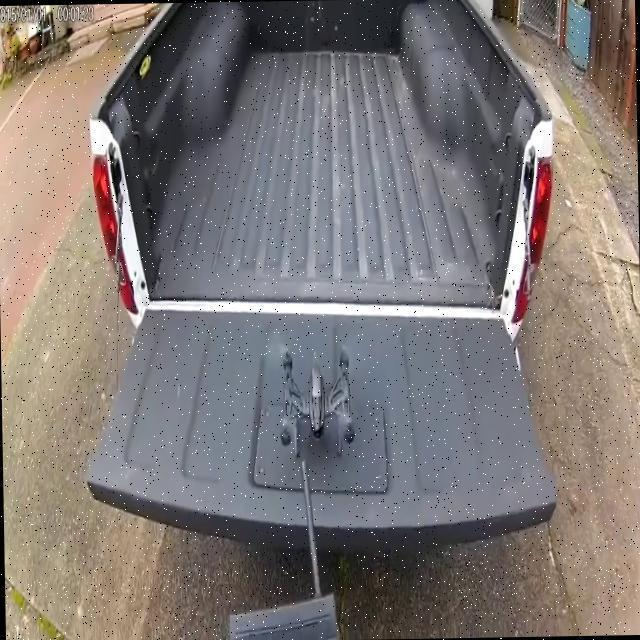Drons: (256, 328, 362, 456)
